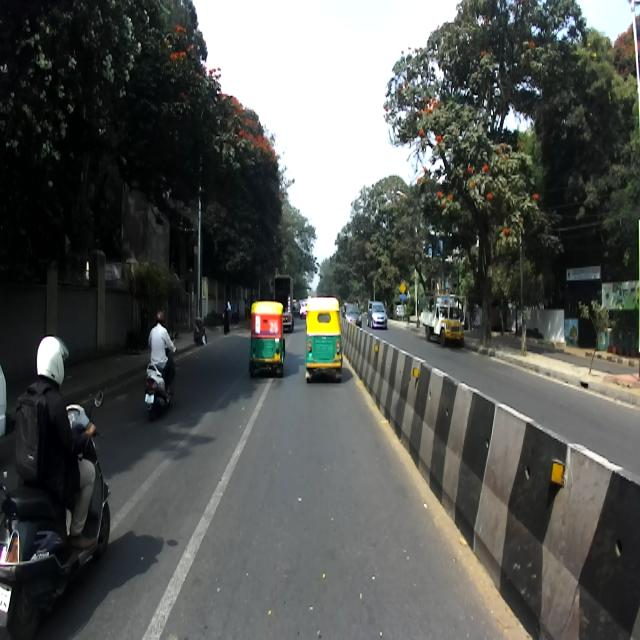auto ahead at: (302, 298, 346, 386), (248, 303, 286, 370)
motorcycle ahead at: (1, 486, 72, 632), (142, 359, 179, 417)
